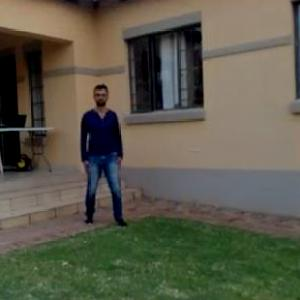follow: (79, 76, 125, 238)
